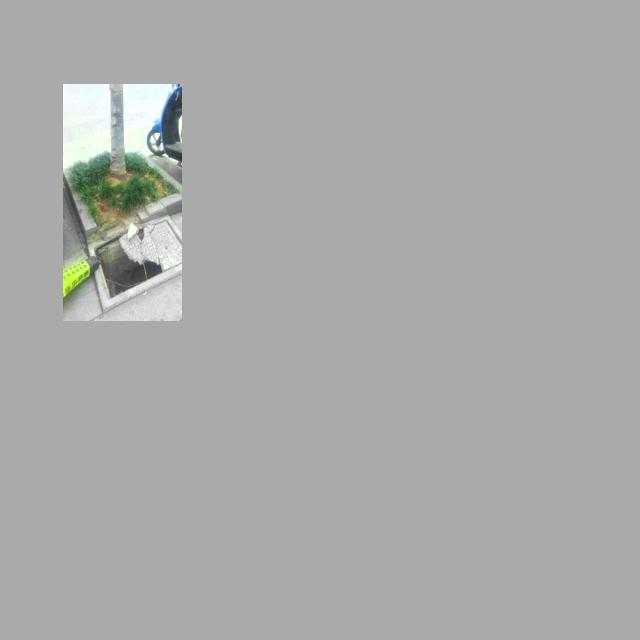broke: (94, 219, 181, 299)
